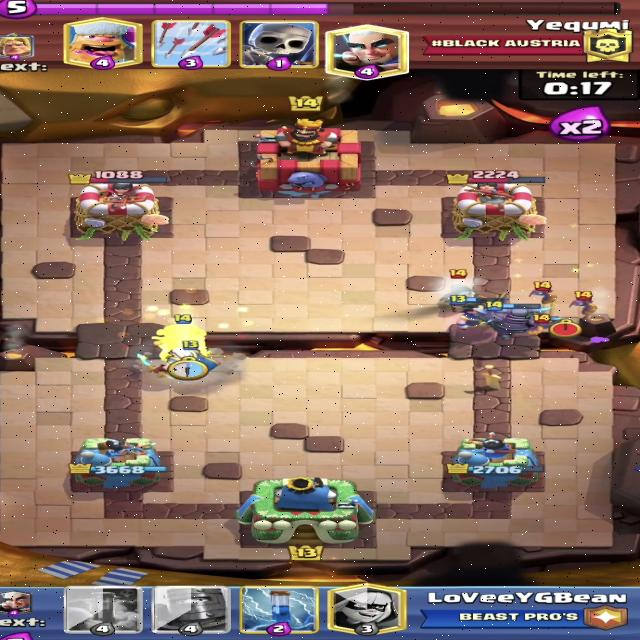Enemy-Bandit: (440, 268, 482, 311)
Enemy-Bat: (529, 280, 558, 304), (569, 290, 598, 314), (530, 313, 557, 329)
Player-BattleRam: (153, 314, 211, 361)
Player-ElectroWizard: (450, 294, 508, 331)
Player-MagicArcher: (136, 340, 222, 379)
Player-PEKKA: (478, 300, 562, 336)
